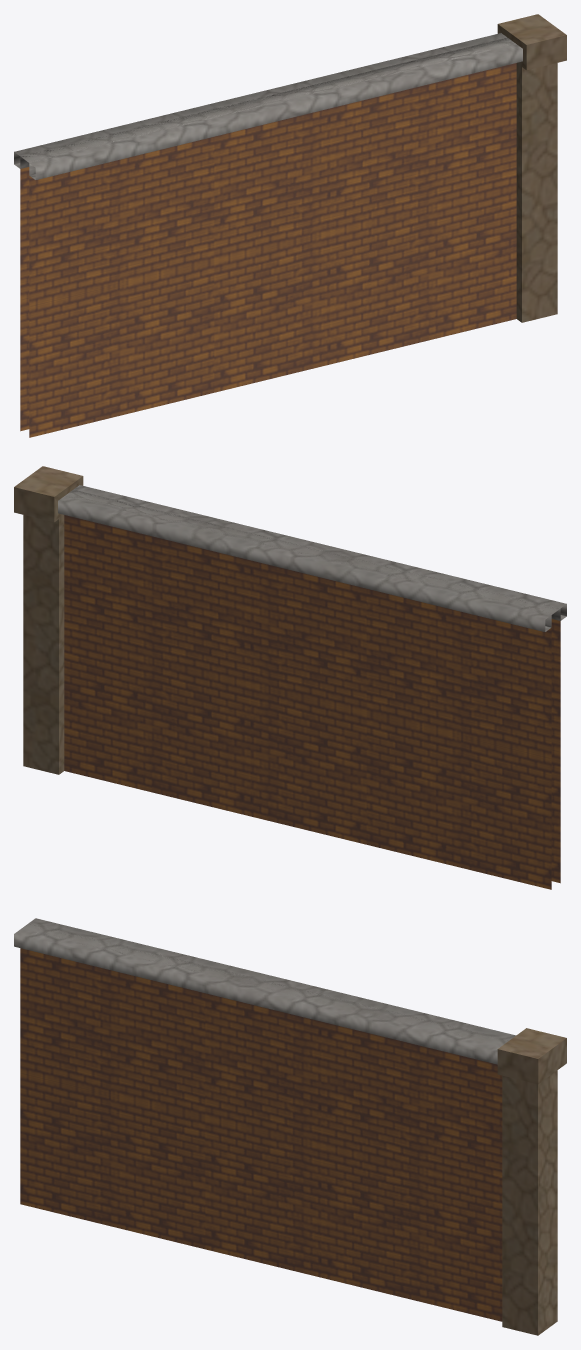
The model's file is Wall_02.fbx.
3 renders of one model, top to bottom at view 1: azimuth 30°, elevation 25°; view 2: azimuth 150°, elevation 25°; view 3: azimuth 330°, elevation 25°, orthographic.
Parts seen in each view (by area): view 1: Wall_02_1, Wall_02_2; view 2: Wall_02_1, Wall_02_2; view 3: Wall_02_1, Wall_02_2.
Boxes of the visible parts, x1,y1,x2,y2 form: Wall_02_1: (14,14,566,437); Wall_02_2: (20,37,515,175); Wall_02_1: (14,466,566,889); Wall_02_2: (65,489,560,627); Wall_02_1: (14,918,566,1335); Wall_02_2: (21,924,507,1042).
Bounding box in the file's own units: 8.42 × 4.29 × 0.7951.
